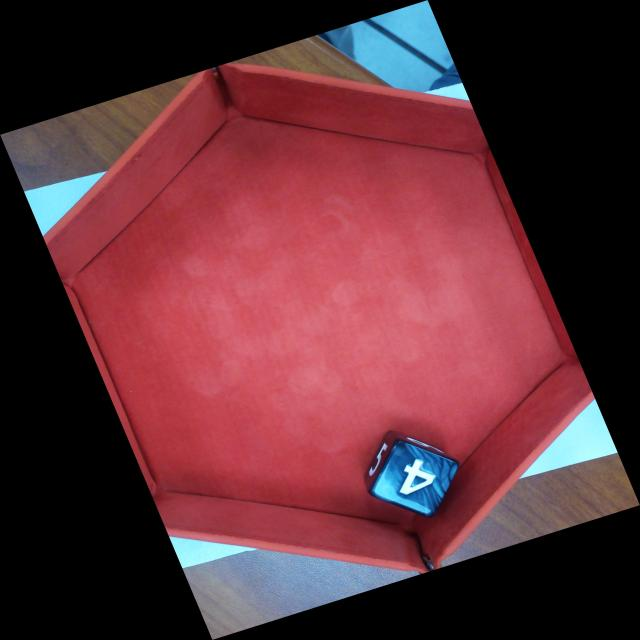dice: (365, 435, 466, 522)
